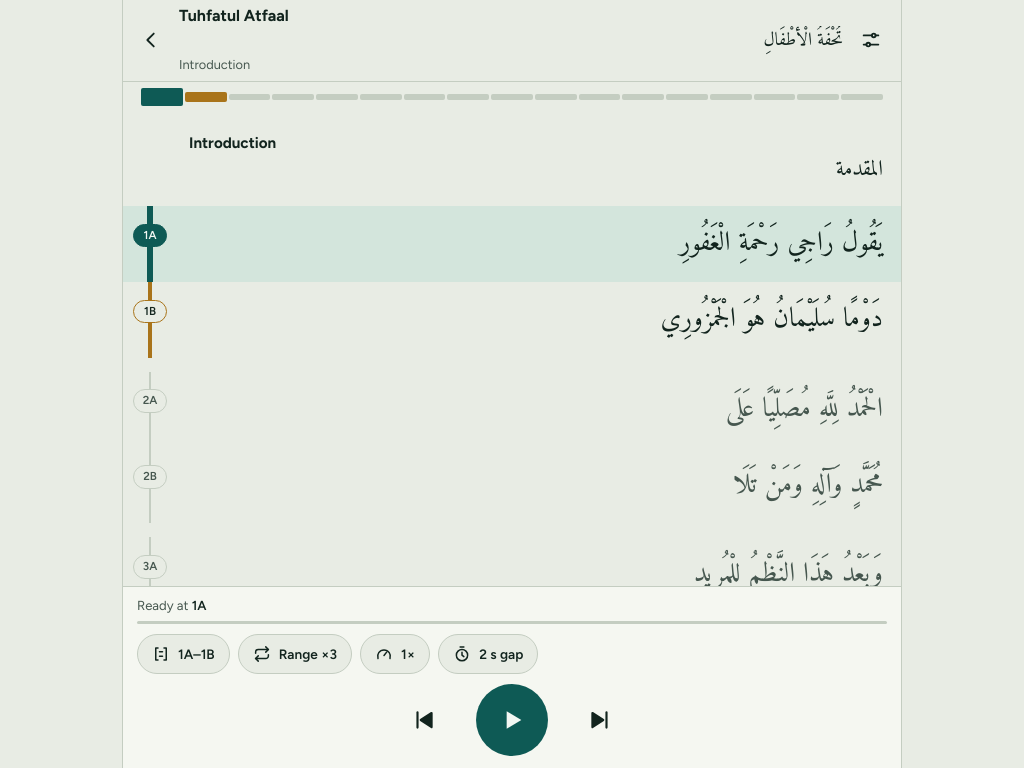
Test: Player: playing › says so when the browser blocks playback
The width and height of the screenshot is (1024, 768).
Expected: the button named "Practice settings" is shown, left=849, top=18, right=893, bottom=62
Click the button named "Play" at (512, 720), box left=476, top=684, right=548, bottom=756
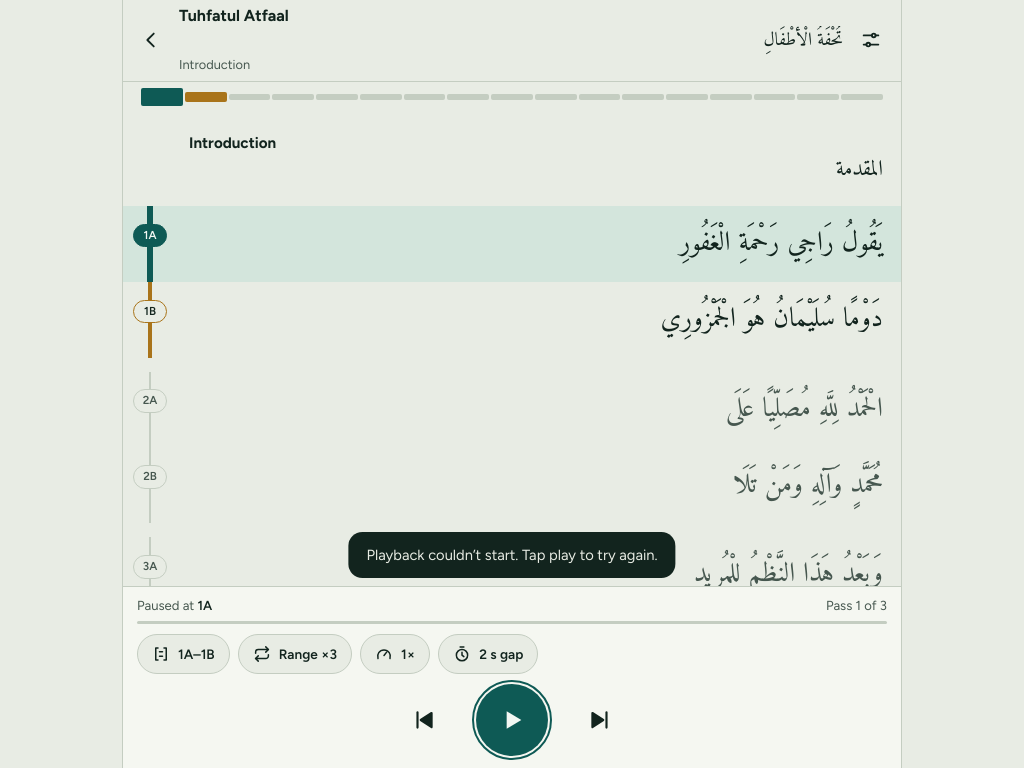
Expected: the text "Playback couldn’t start. Tap play to try again." is shown, left=366, top=544, right=658, bottom=566
